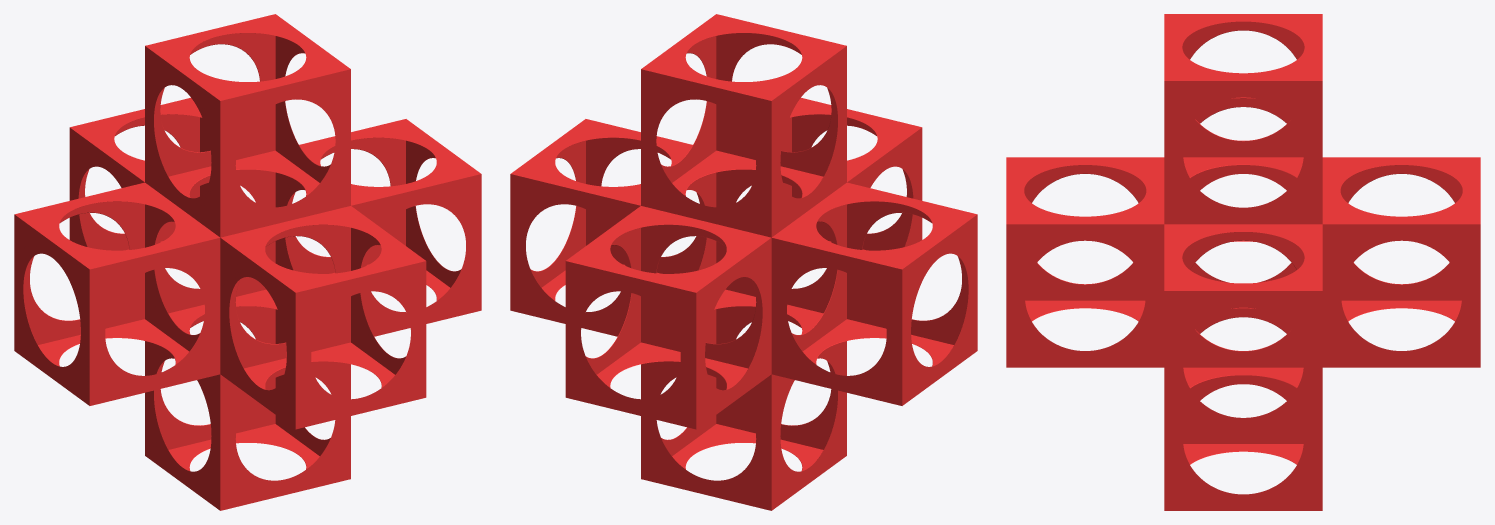
File: orangutano_1.glb
3 views of the same model, side by side, from view 1: azimuth 30°, elevation 25°; view 2: azimuth 150°, elevation 25°; view 3: azimuth 270°, elevation 25° (orthographic). The views are drawn at different scales.
Visible parts, largest first — view 1: Cube.001; view 2: Cube.001; view 3: Cube.001.
Part boxes in pixels (box(x1,y1,x2,y2)): Cube.001: box(14, 14, 481, 510); Cube.001: box(510, 14, 977, 510); Cube.001: box(1006, 14, 1480, 510).
Bounding box in the file's own units: 2.82 × 2.82 × 2.82.
